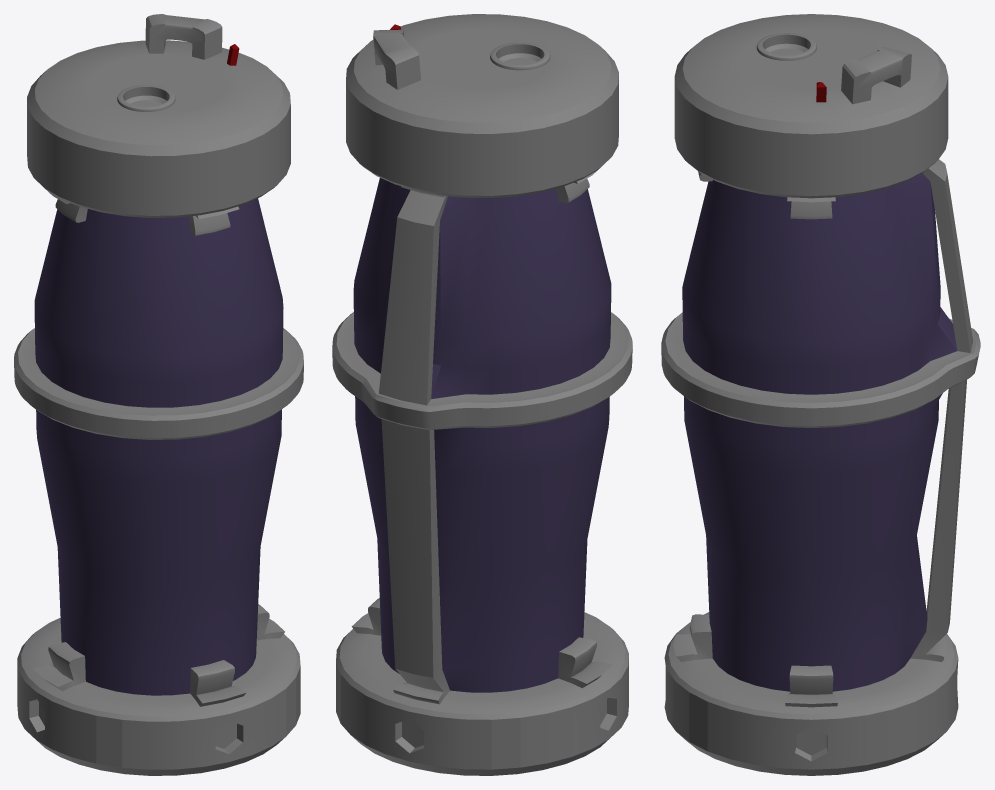
Rendered from Portal_Essence.fbx.
3 views of the same model, side by side, from view 1: azimuth 30°, elevation 25°; view 2: azimuth 150°, elevation 25°; view 3: azimuth 270°, elevation 25° (orthographic). The views are drawn at different scales.
Visible parts, largest first — view 1: Cylinder; view 2: Cylinder; view 3: Cylinder.
Part boxes in pixels (x1,y1,x2,y2): Cylinder: [14, 14, 303, 775]; Cylinder: [332, 14, 632, 775]; Cylinder: [661, 14, 980, 775].
Size of the model in its own units: 204 by 525 by 217.
